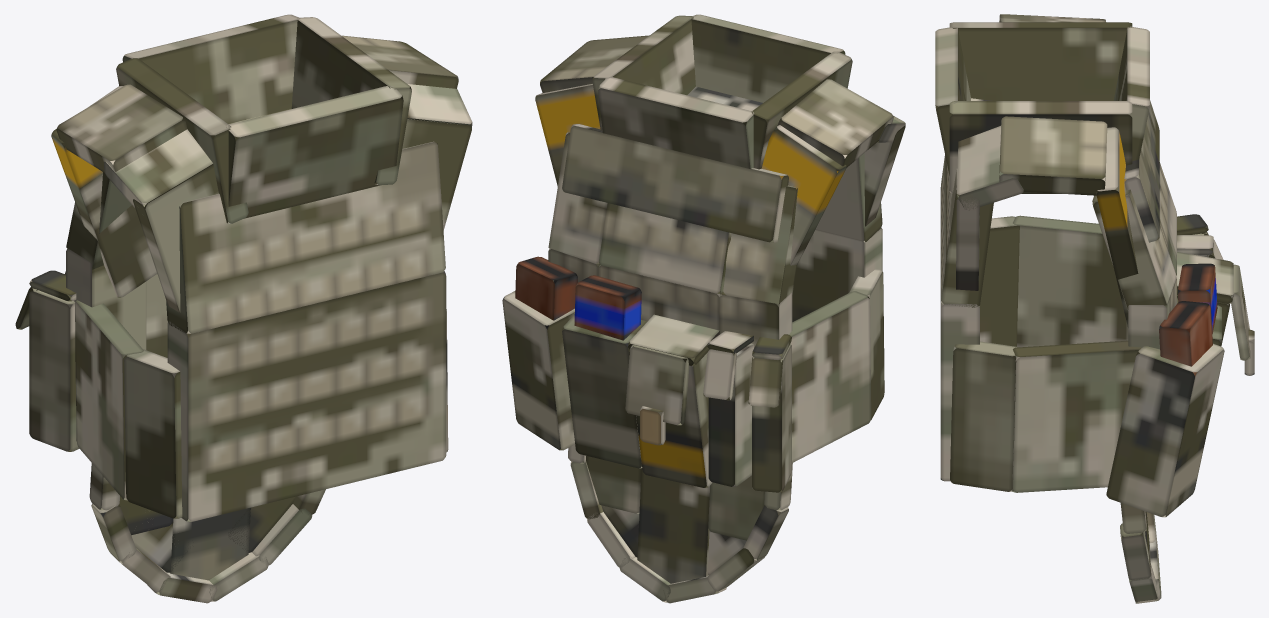
Rendered from ukrainian_mobilized.obj.
3 views of the same model, side by side, from view 1: azimuth 30°, elevation 25°; view 2: azimuth 150°, elevation 25°; view 3: azimuth 270°, elevation 25° (orthographic). The views are drawn at different scales.
Parts seen in each view (by area): view 1: cube; view 2: cube; view 3: cube.
Boxes of the visible parts, <box> form: cube: <box>15,14,472,603</box>; cube: <box>502,14,905,603</box>; cube: <box>935,14,1254,603</box>.
Size of the model in its own units: 0.7271 by 1.13 by 0.6118.
